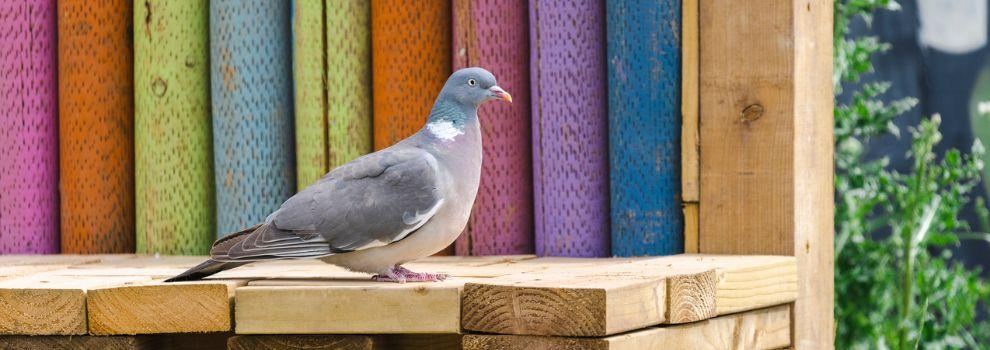Flying Rat: (191, 66, 510, 281)
